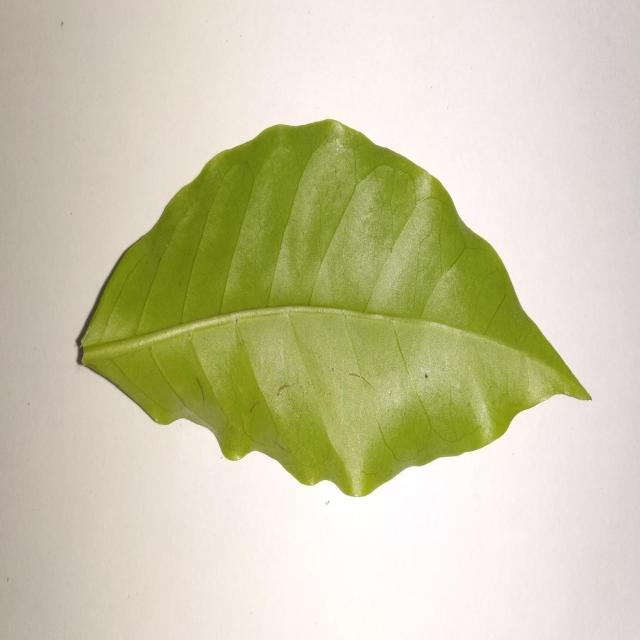Sanas: (76, 119, 590, 501)
